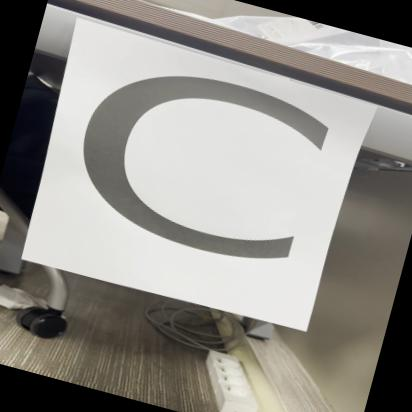seat: (11, 14, 374, 327)
